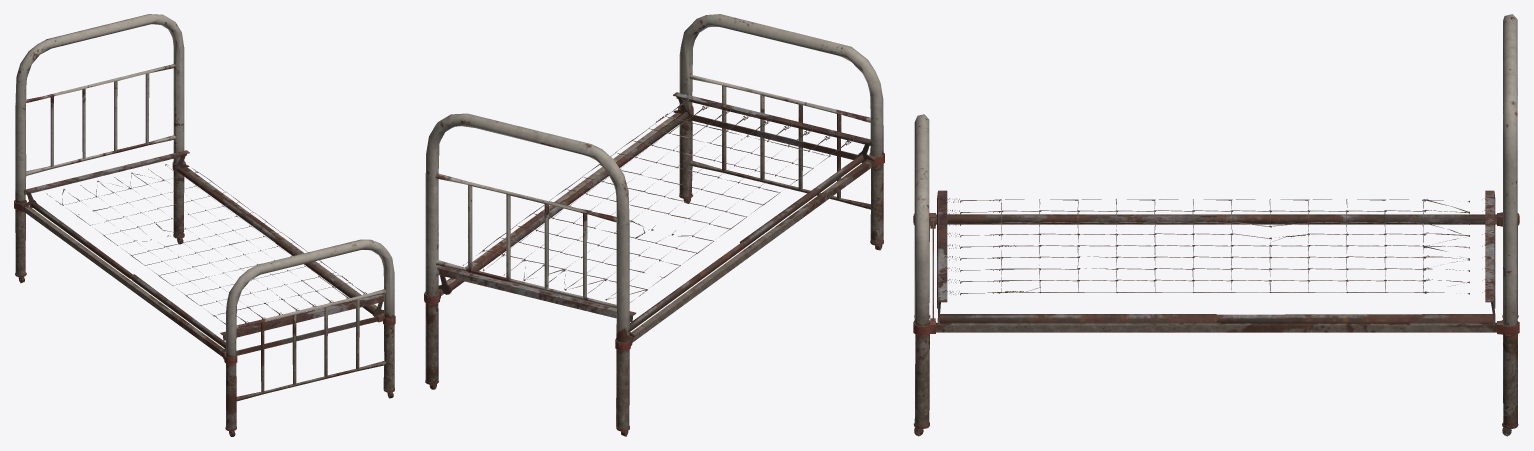
The model's file is old_bed_frame.glb.
The picture shows the model from 3 angles, left to right: view 1: azimuth 30°, elevation 25°; view 2: azimuth 150°, elevation 25°; view 3: azimuth 270°, elevation 25°; orthographic projection. The views are drawn at different scales.
Parts seen in each view (by area): view 1: old_bed_frame; view 2: old_bed_frame; view 3: old_bed_frame.
Part boxes in pixels (x1,y1,x2,y2): old_bed_frame: (14, 14, 395, 436); old_bed_frame: (424, 14, 884, 436); old_bed_frame: (913, 14, 1519, 436).
Size of the model in its own units: 0.9047 by 1.2 by 2.
Materials: 1 (1 with a texture image).
